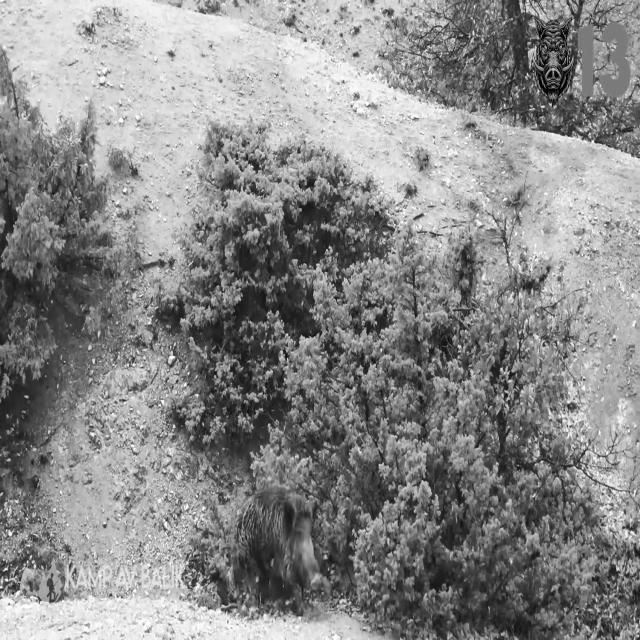boar: (234, 486, 330, 612), (533, 15, 575, 103)
